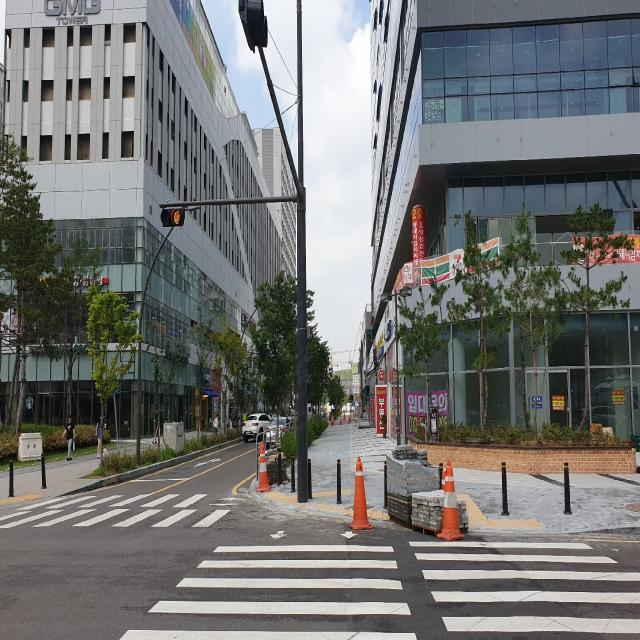횡단보도: (116, 527, 640, 639), (0, 489, 237, 531)
